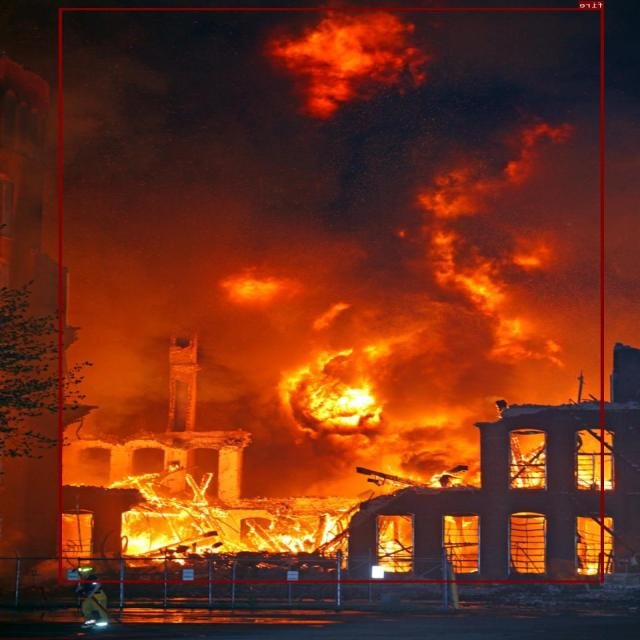fire: (60, 8, 604, 582)
